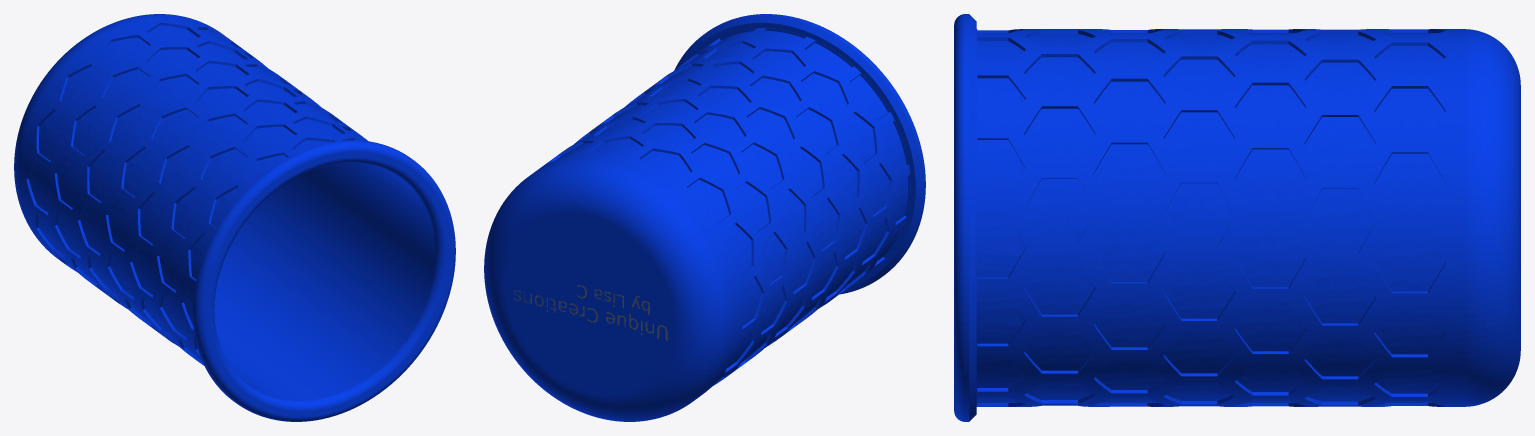
The model's file is vase001.obj.
3 views of the same model, side by side, from view 1: azimuth 30°, elevation 25°; view 2: azimuth 150°, elevation 25°; view 3: azimuth 270°, elevation 25° (orthographic). The views are drawn at different scales.
Parts seen in each view (by area): view 1: Vase_001; view 2: Vase_001, UniqueCreation; view 3: Vase_001.
Boxes of the visible parts, x1,y1,x2,y2 form: Vase_001: (14, 14, 455, 421); Vase_001: (484, 14, 925, 421); UniqueCreation: (513, 290, 667, 340); Vase_001: (954, 14, 1520, 421).
Bounding box in the file's own units: 108 × 108 × 150.
